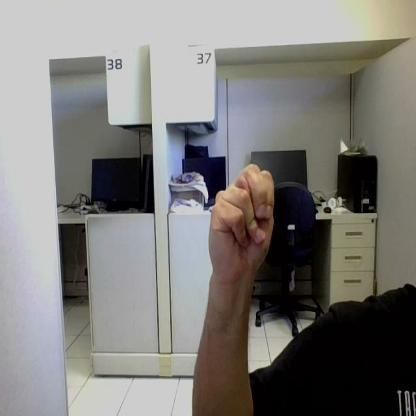N: (209, 165, 274, 272)
